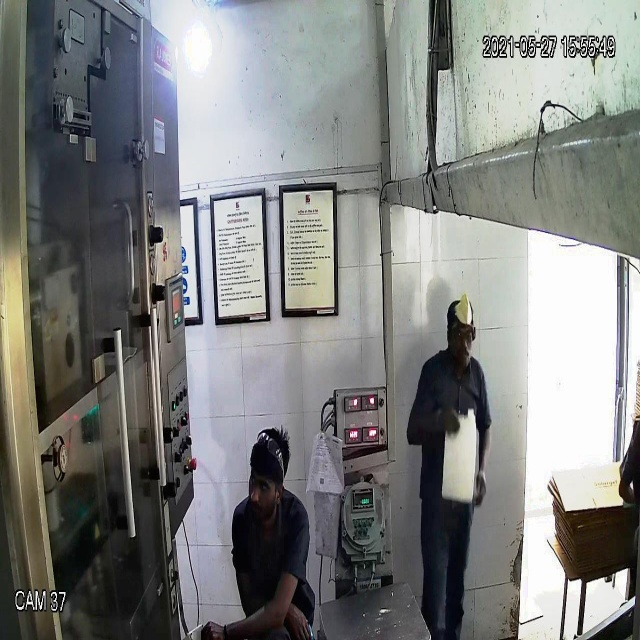Sin_gafas: (244, 470, 283, 500)
